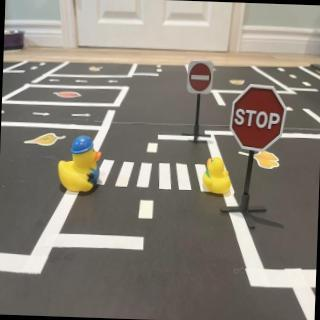duck_regular: (203, 156, 234, 197)
duck_specialty: (58, 136, 103, 195)
road_crosswalk: (97, 156, 221, 197)
road_oneway: (71, 111, 93, 120), (33, 110, 53, 119), (47, 78, 64, 85), (74, 79, 91, 85), (107, 80, 122, 86)
sign_noentry: (188, 59, 216, 96)
sign_stop: (230, 86, 289, 152)
